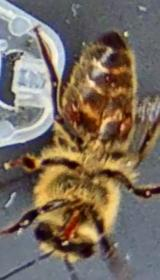varroa_mite: (58, 92, 92, 130), (112, 100, 138, 143)
